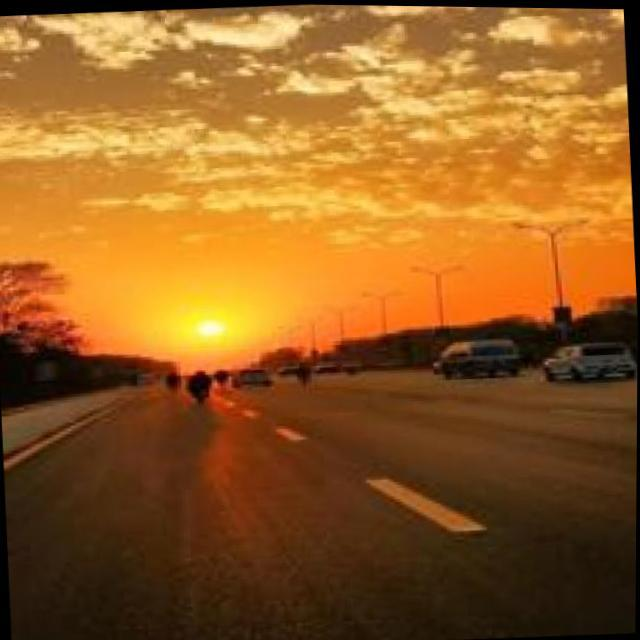sun: (197, 319, 225, 340), (197, 319, 226, 338)
